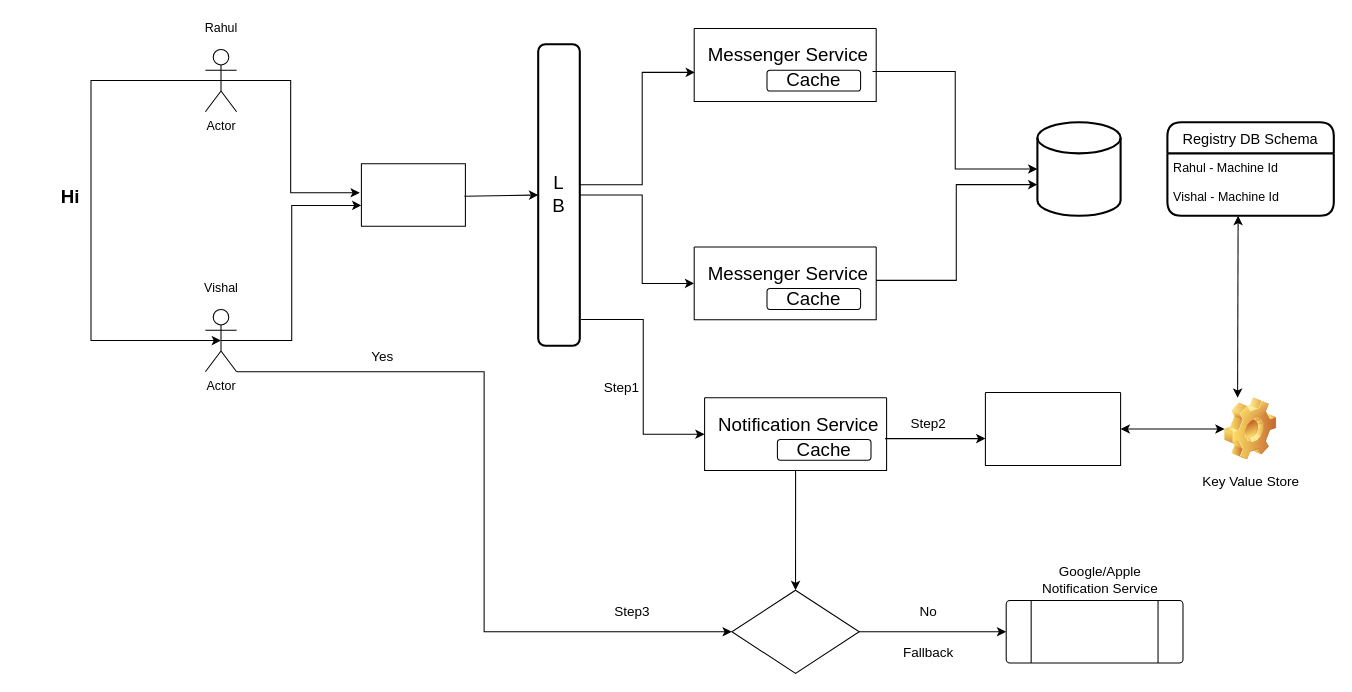
Some shapes in this 1352 by 692 pixel diagram are drawn without their labels. The shapes that lost their labels are listed below. From the top down, each one's centre as x and y in pixels, then its label:
At (x=1078, y=168): "Cassandra Cluster".
At (x=412, y=194): "API Gateway".
At (x=1052, y=428): "Registry Service".
At (x=795, y=631): "Device Active".
